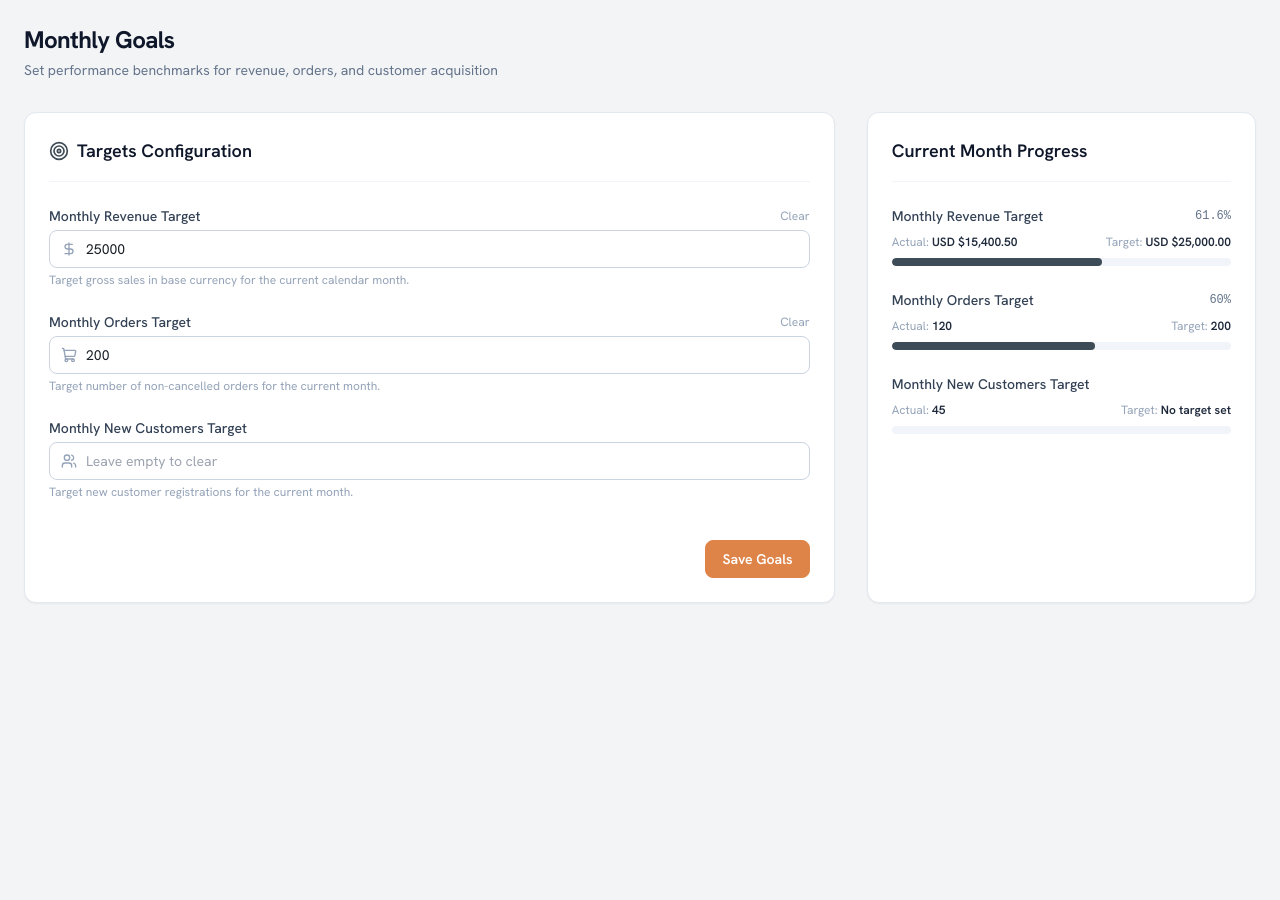
Test: GoalsPage › surfaces per-field validation errors visibly without failing silently
Expected: the number field labelled "Monthly Revenue Target" is shown, 49,230 -> 810,268
Step 1. Click the button "Save Goals" → x=758, y=559, box 706,540 -> 810,578
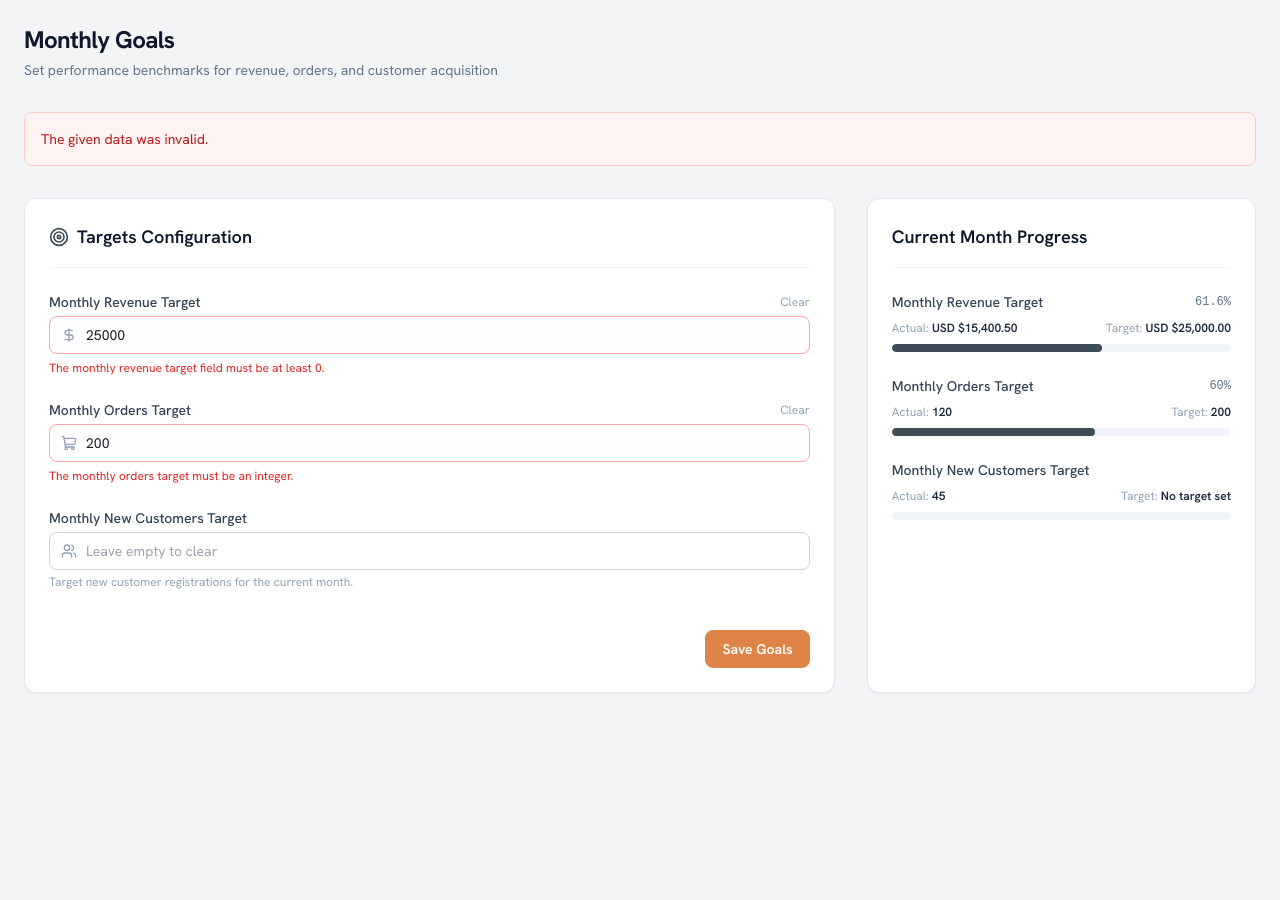
Now the text "The monthly revenue target field must be at least 0." is shown, box 49,360 -> 324,376
Now the text "The monthly orders target must be an integer." is shown, box 49,468 -> 294,484
